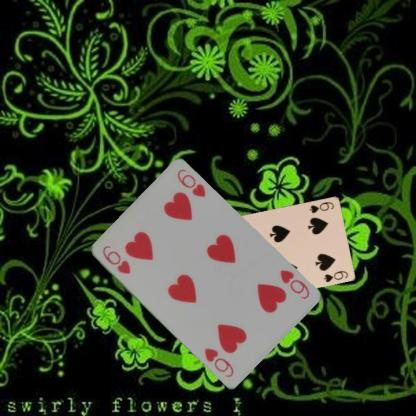6h: (277, 266, 310, 301), (99, 243, 132, 275)
6s: (307, 199, 335, 214)
